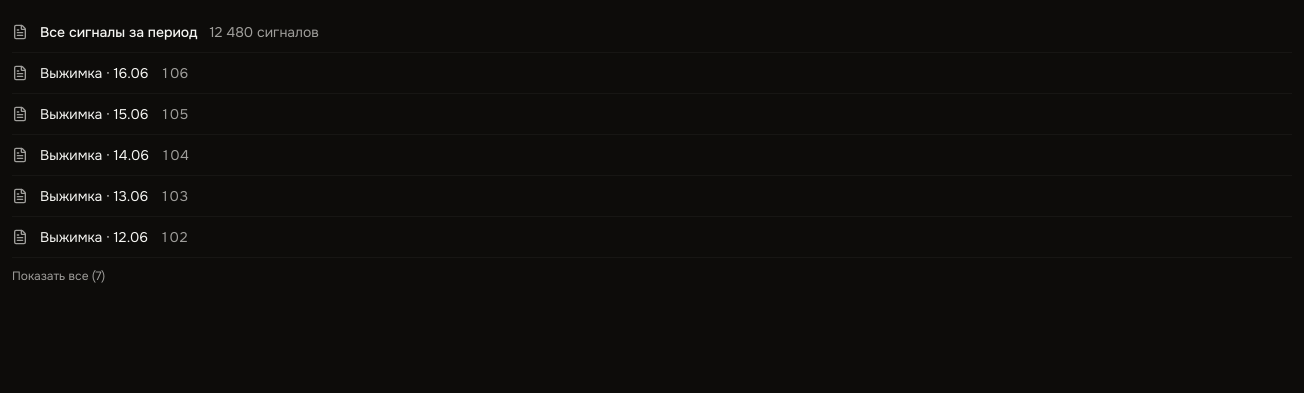
Test: CampaignArtifactsBlock — streaming collection › >5 выжимок → показаны 5 и «Показать все (7)»; клик разворачивает в «Свернуть»
Expected: the text "Выжимка · 16.06" is shown 5 times, [40,63,148,83]; [40,104,148,124]; [40,145,149,165]; [40,186,148,206]; [40,227,148,247]
Step 1. Click the button "Показать все (7)" → (59, 276), box [12,257,1292,294]
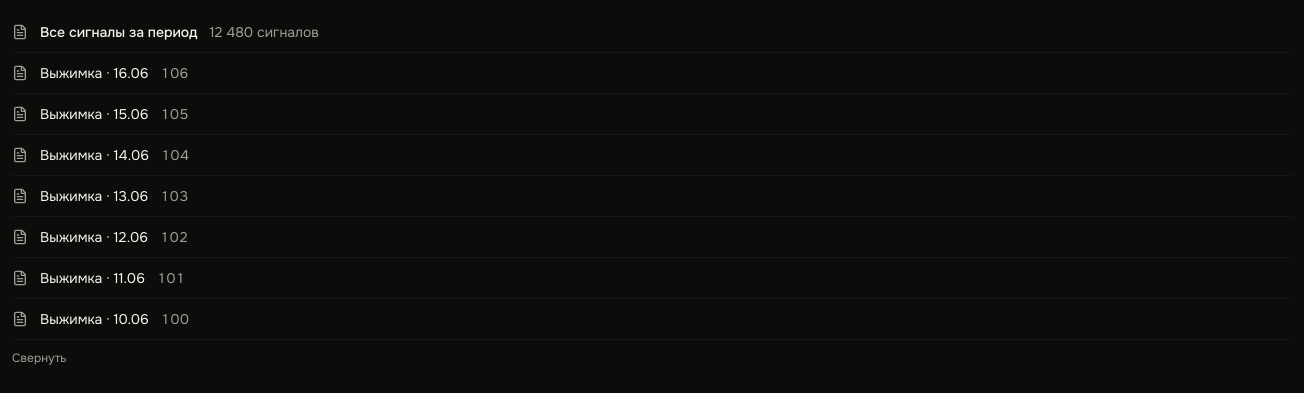
Now the text "Выжимка · 16.06" is shown 7 times
Now the button "Свернуть" is shown, box [12,339,1292,376]
